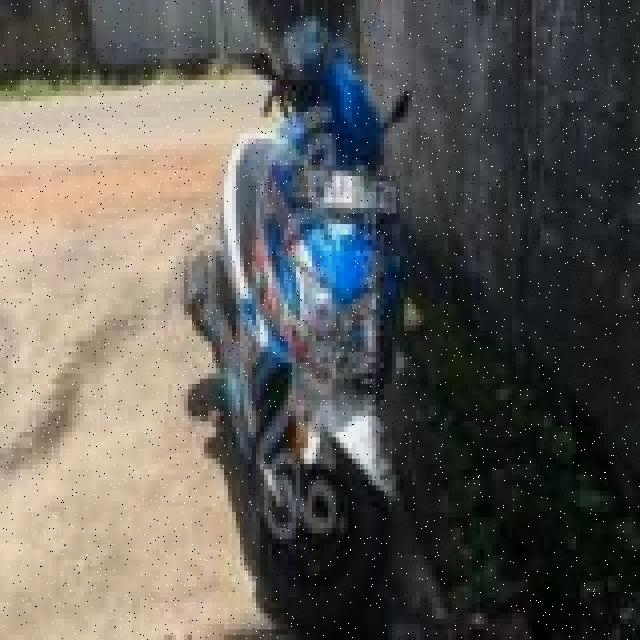motorbike: (151, 24, 422, 622)
